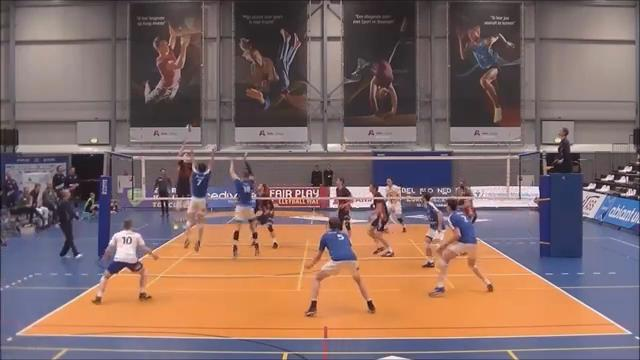Attack: (173, 143, 193, 234)
Block: (223, 148, 263, 258), (183, 145, 217, 258)
Player: (305, 217, 375, 315), (429, 199, 492, 296), (92, 219, 157, 304), (368, 184, 393, 256), (422, 192, 442, 267), (255, 183, 277, 248), (386, 178, 406, 231), (336, 177, 351, 235), (456, 181, 476, 222)
ball: (185, 122, 191, 133)
